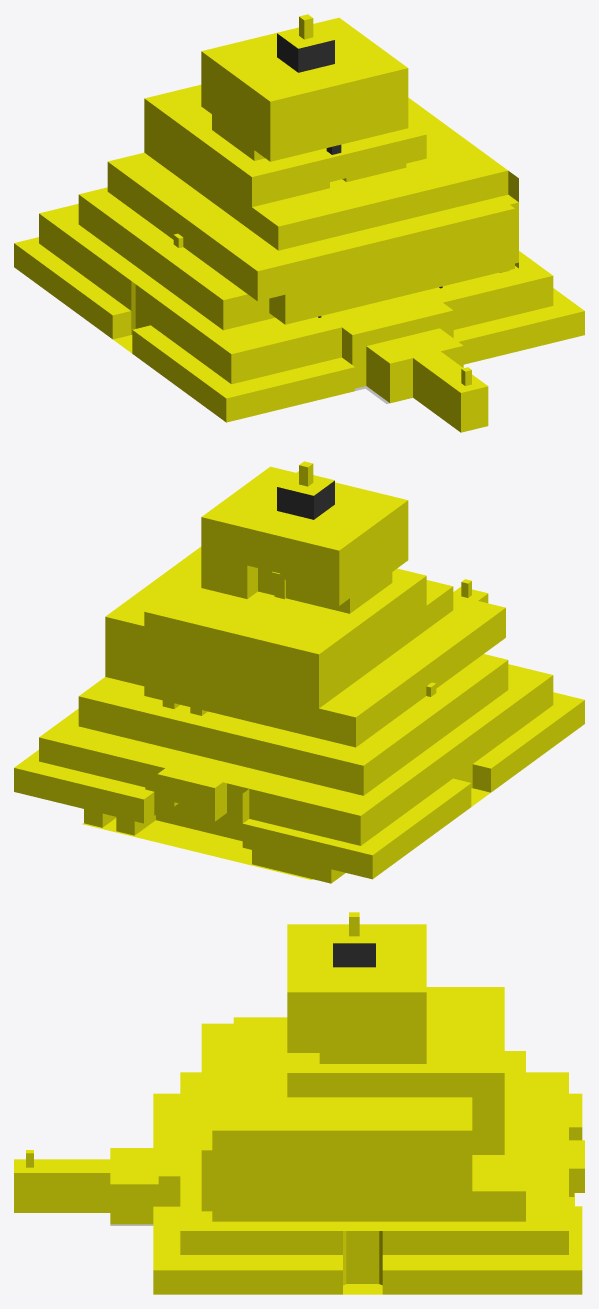
The model's file is ssl_segment7.0x23678.collision.obj.
3 views of the same model, one above another, from view 1: azimuth 30°, elevation 25°; view 2: azimuth 150°, elevation 25°; view 3: azimuth 270°, elevation 25° (orthographic).
Parts seen in each view (by area): view 1: ssl_segment7_23678_normal, ssl_segment7_23678_fence; view 2: ssl_segment7_23678_normal, ssl_segment7_23678_fence; view 3: ssl_segment7_23678_normal, ssl_segment7_23678_fence.
Boxes of the visible parts, x1,y1,x2,y2 form: ssl_segment7_23678_normal: [14, 14, 584, 432]; ssl_segment7_23678_fence: [277, 33, 442, 317]; ssl_segment7_23678_normal: [14, 461, 584, 883]; ssl_segment7_23678_fence: [277, 480, 334, 519]; ssl_segment7_23678_normal: [14, 912, 584, 1294]; ssl_segment7_23678_fence: [333, 943, 375, 967].
Size of the model in its own units: 7.8 by 6.65 by 10.65.
